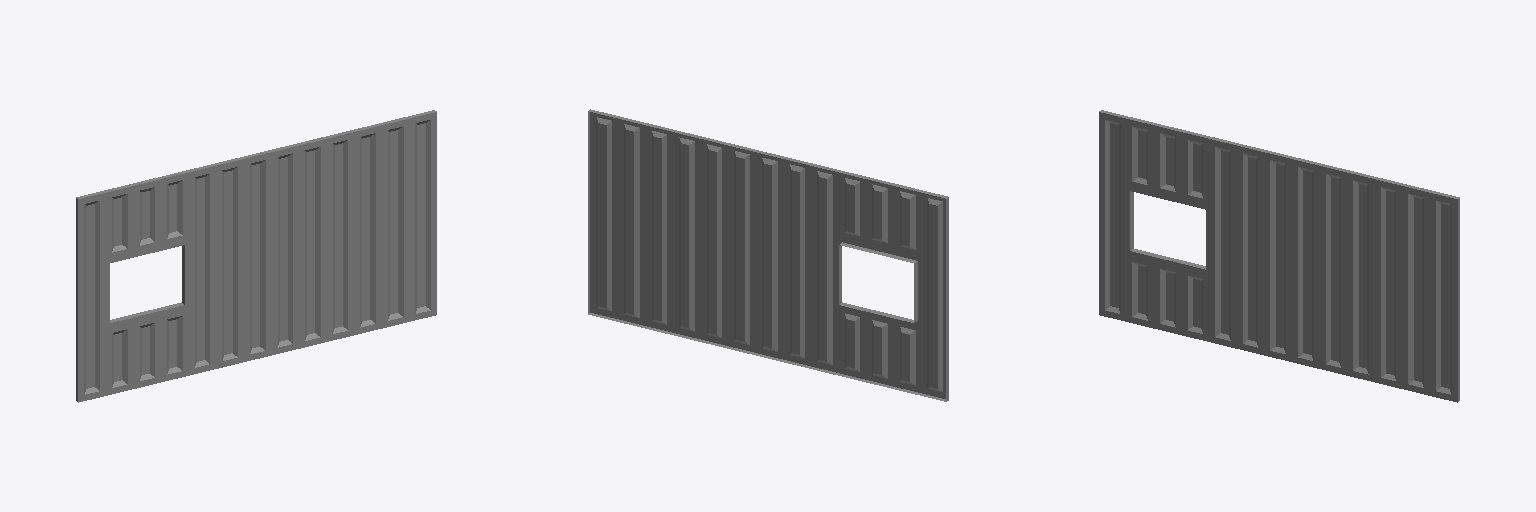
File: ContainerBack.obj
3 renders of one model, left to right at view 1: azimuth 30°, elevation 25°; view 2: azimuth 150°, elevation 25°; view 3: azimuth 330°, elevation 25°, orthographic.
Visible parts, largest first — view 1: Object001; view 2: Object001; view 3: Object001.
Part boxes in pixels (x1,y1,x2,y2): Object001: (76,110,436,402); Object001: (588,109,948,401); Object001: (1099,110,1459,402).
Bounding box in the file's own units: 480 × 260 × 8.14.